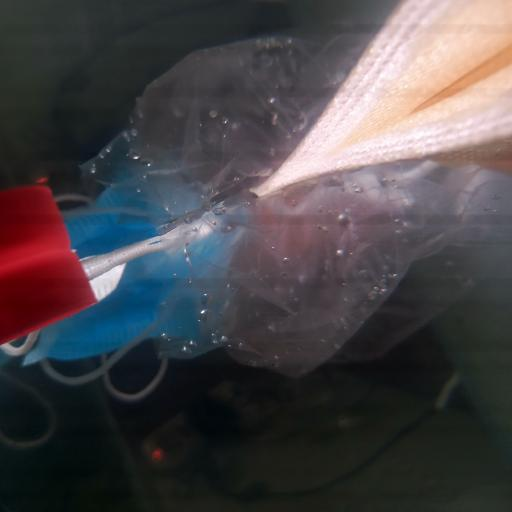bottle_cap: (4, 254, 102, 336)
mask: (249, 0, 512, 209), (40, 185, 250, 403)
plastic_bag: (74, 33, 512, 379)
